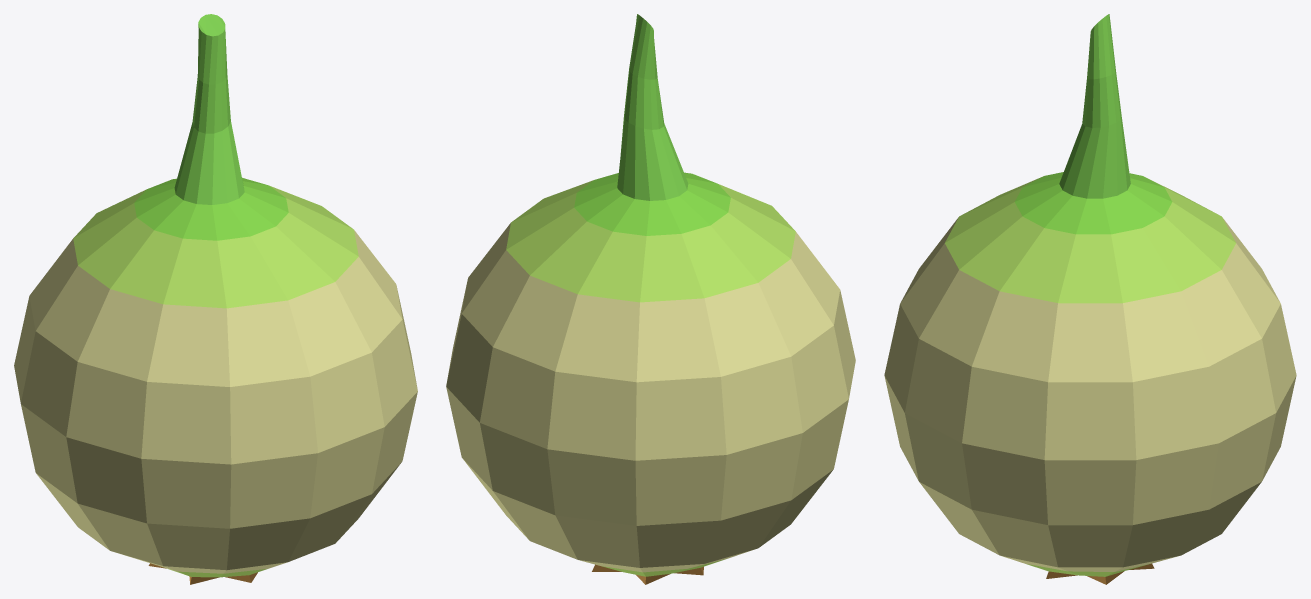
File: Onion_0.fbx
The picture shows the model from 3 angles, left to right: view 1: azimuth 30°, elevation 25°; view 2: azimuth 150°, elevation 25°; view 3: azimuth 270°, elevation 25°; orthographic projection.
Visible parts, largest first — view 1: Sphere.007; view 2: Sphere.007; view 3: Sphere.007.
Part boxes in pixels (x1,y1,x2,y2): Sphere.007: (14, 14, 417, 584); Sphere.007: (446, 14, 855, 584); Sphere.007: (884, 14, 1296, 584).
Size of the model in its own units: 260 by 386 by 254.
